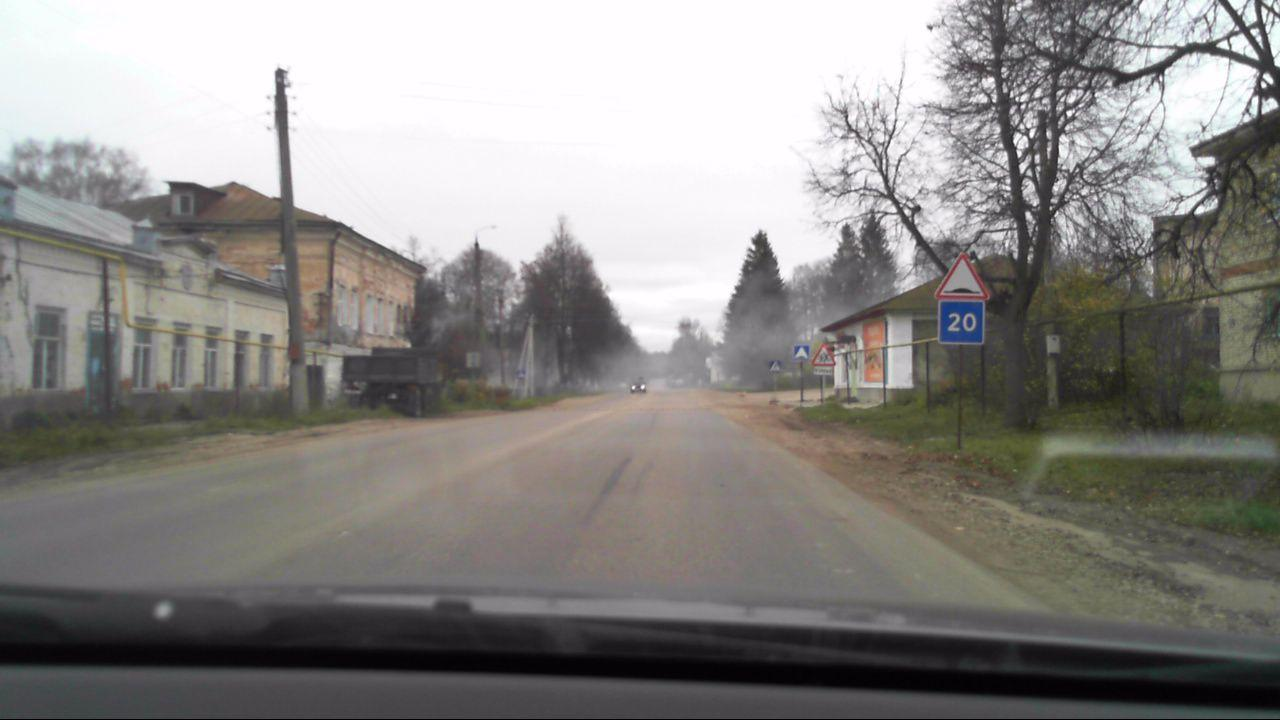1_17: (937, 254, 988, 300)
1_23: (812, 344, 834, 365)
5_19_1: (767, 359, 782, 374)
5_19_2: (515, 369, 527, 378)
5_20: (793, 344, 809, 362)
6_2: (941, 302, 988, 344)
8_2_1: (814, 366, 833, 377)
